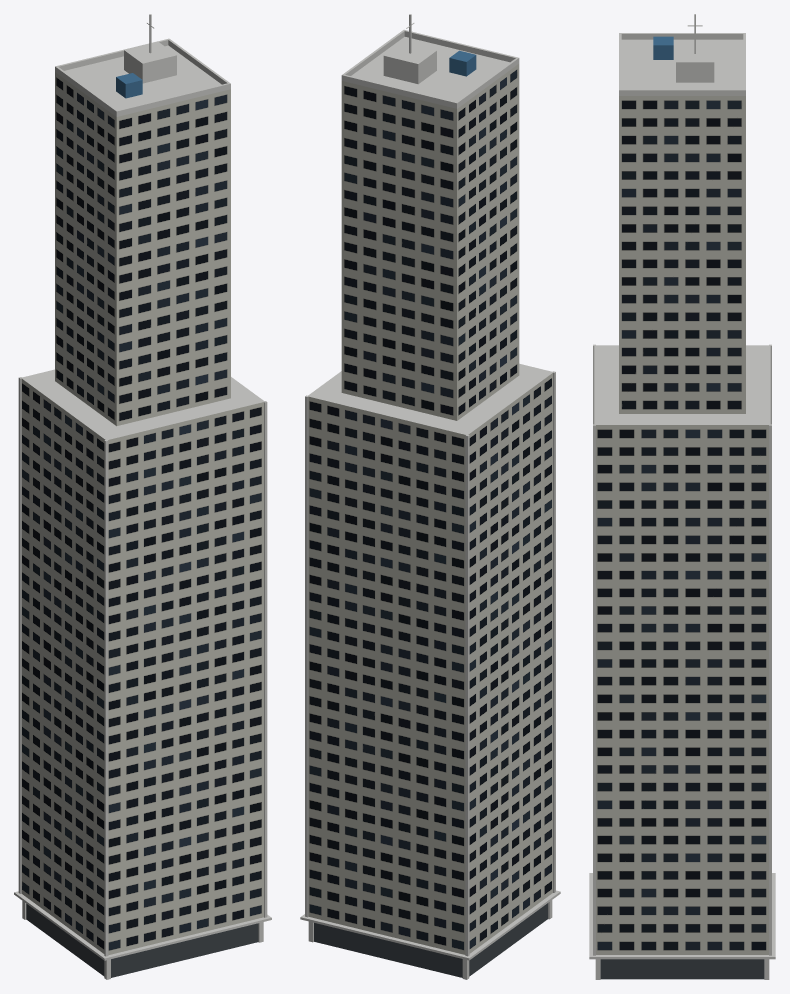
Rendered from predio_4.glb.
3 views of the same model, side by side, from view 1: azimuth 30°, elevation 25°; view 2: azimuth 150°, elevation 25°; view 3: azimuth 270°, elevation 25° (orthographic). The views are drawn at different scales.
Parts seen in each view (by area): view 1: fachada, con, ter; view 2: fachada, con, ter, cx; view 3: fachada, con, ter, cx.
Part boxes in pixels (x1,y1,x2,y2): fachada: (21,72,263,955); con: (14,14,271,979); ter: (26,904,258,977); fachada: (308,64,552,954); con: (300,14,560,979); ter: (314,903,547,977); cx: (449,50,476,76); fachada: (596,96,768,954); con: (589,14,775,979); ter: (600,959,764,979); cx: (653,36,673,59).
Size of the model in its own units: 31.6 by 164 by 29.6.
Materials: 4 (1 with a texture image).
